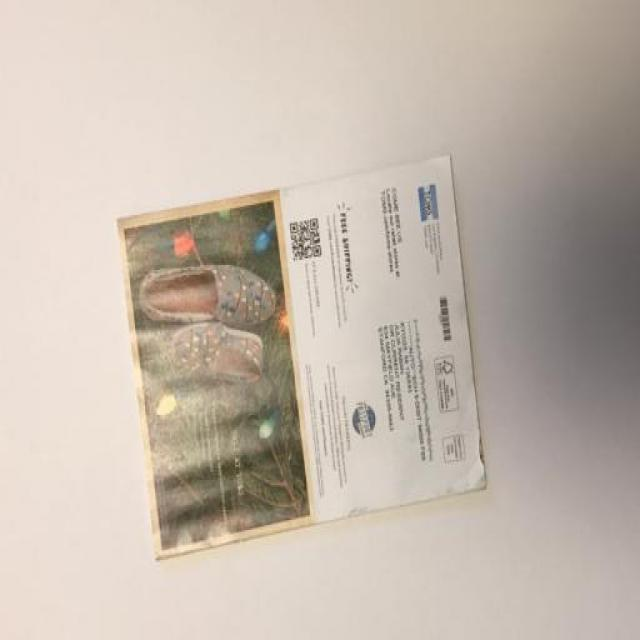paper: (95, 174, 523, 615)
